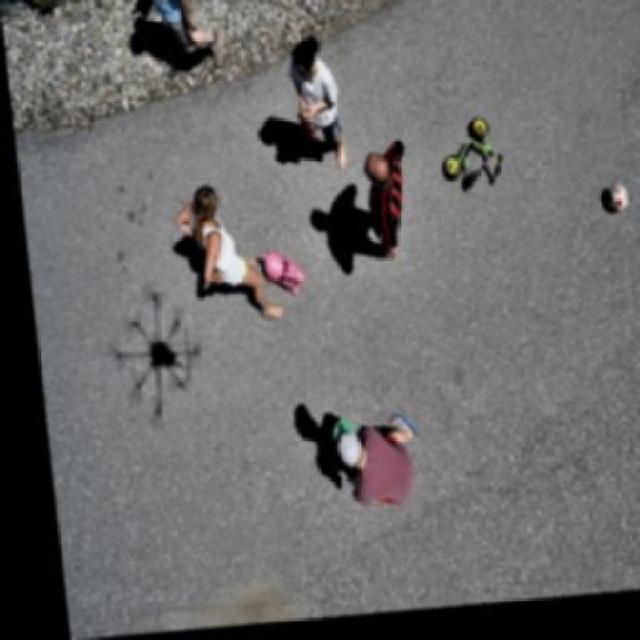Person: (162, 175, 278, 336), (280, 30, 358, 178), (322, 409, 416, 523), (350, 136, 419, 273), (134, 0, 231, 75)
